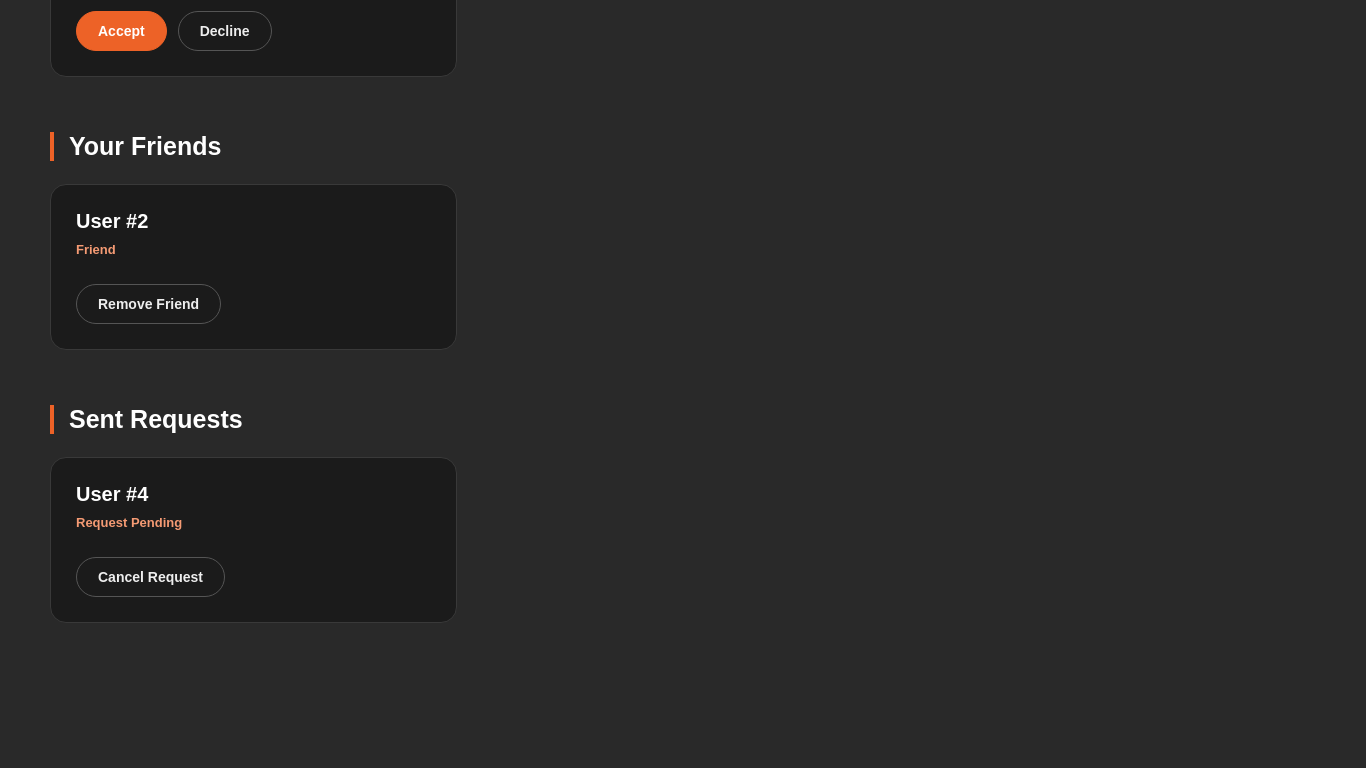
Test case: FriendsPageApi - React Component Tests › cancels an outgoing request
(page scrolled)
Check: the heading "User #4" is shown, box [76,483,148,505]
Click the button "Cancel Request" at (150,577), box [76,557,225,597]
(page scrolled)
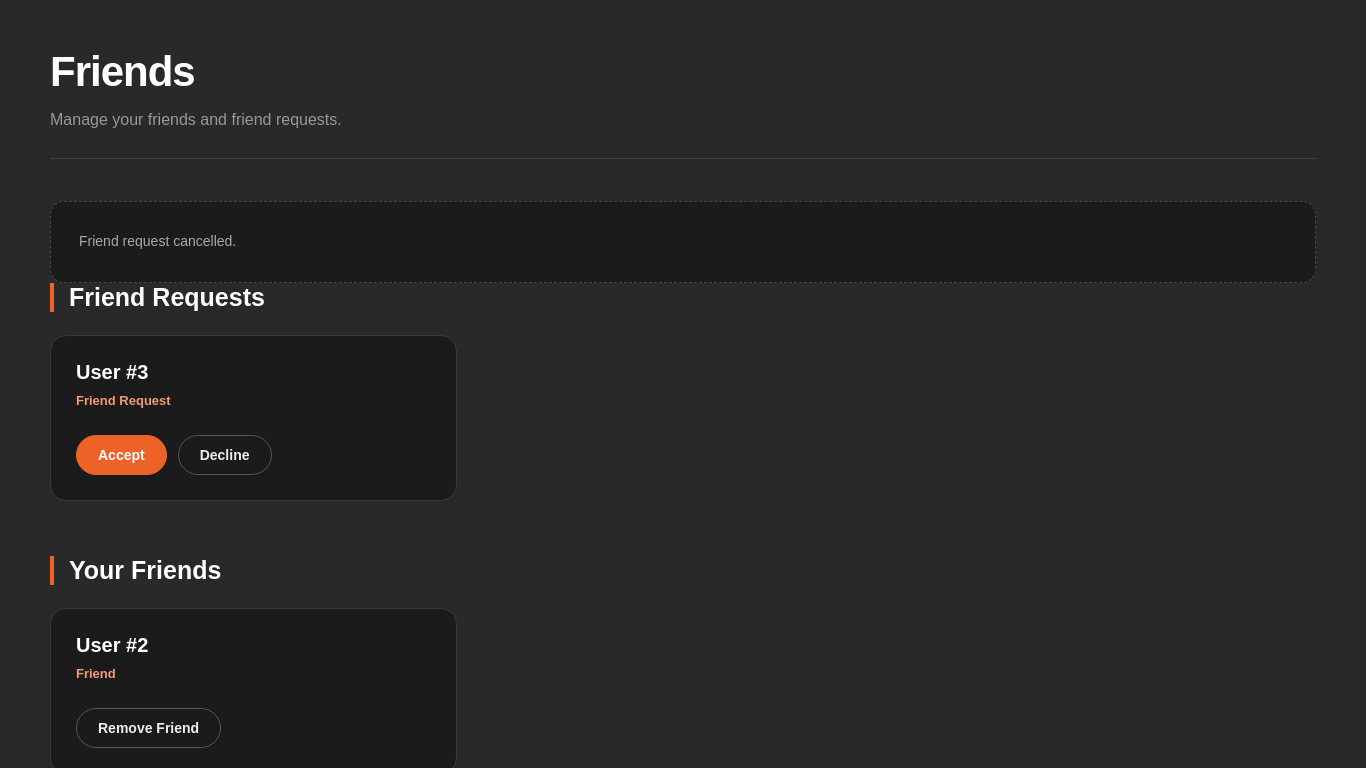
Check: the text "Friend request cancelled." is shown, box [79,233,236,249]
